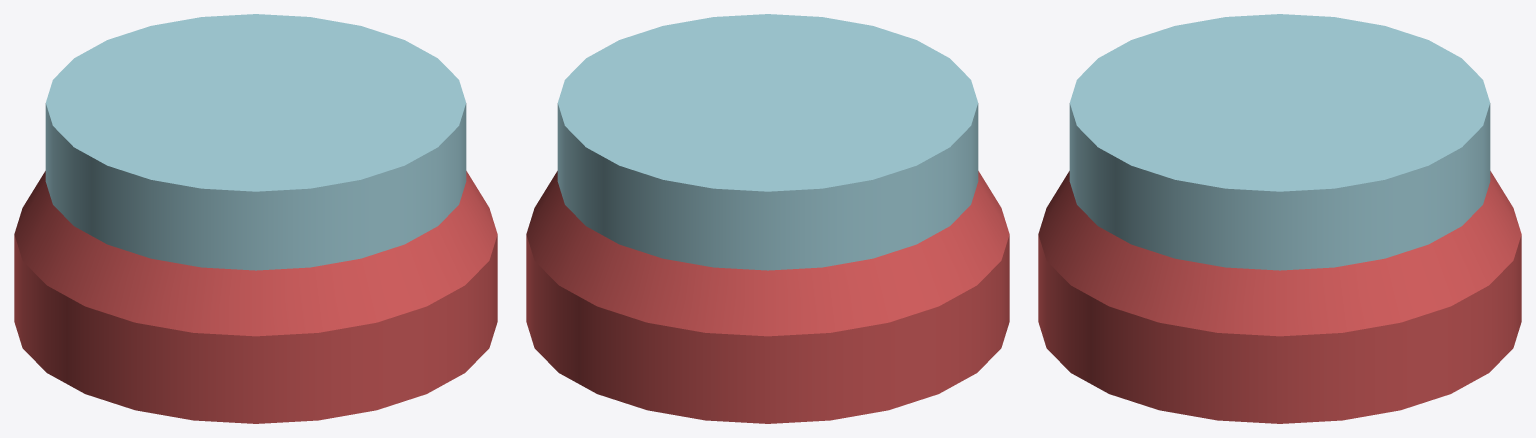
Rendered from towerRound_bottomA.dae.
3 views of the same model, side by side, from view 1: azimuth 30°, elevation 25°; view 2: azimuth 150°, elevation 25°; view 3: azimuth 270°, elevation 25° (orthographic).
Parts seen in each view (by area): view 1: towerRound_bottomA; view 2: towerRound_bottomA; view 3: towerRound_bottomA.
Part boxes in pixels (bbox=[...]): towerRound_bottomA: bbox=[14, 14, 497, 423]; towerRound_bottomA: bbox=[526, 14, 1009, 423]; towerRound_bottomA: bbox=[1038, 14, 1521, 423].
Bounding box in the file's own units: 1 × 0.5 × 1.
